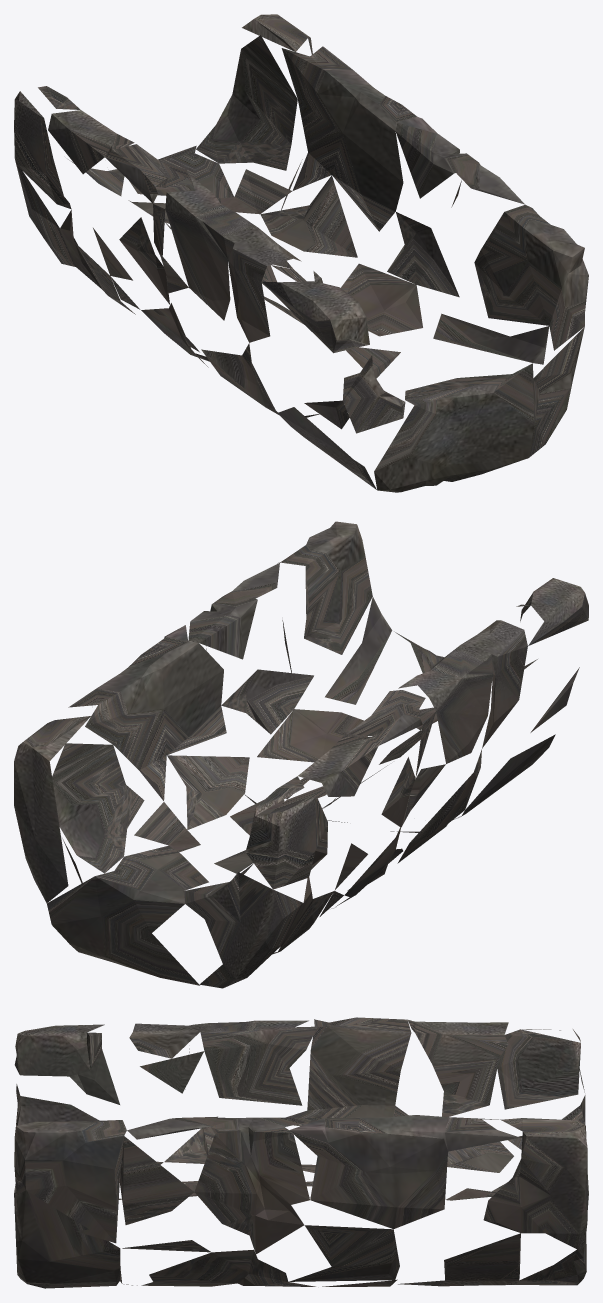
The model's file is prp_millrace_a_LOD1.glb.
The picture shows the model from 3 angles, top to bottom: view 1: azimuth 30°, elevation 25°; view 2: azimuth 150°, elevation 25°; view 3: azimuth 270°, elevation 25°; orthographic projection. The views are drawn at different scales.
Visible parts, largest first — view 1: geometry_0; view 2: geometry_0; view 3: geometry_0.
Boxes of the visible parts, x1,y1,x2,y2 form: geometry_0: [14, 14, 588, 492]; geometry_0: [14, 521, 588, 988]; geometry_0: [14, 1017, 588, 1288].
Bounding box in the file's own units: 1.96 × 1.44 × 4.
Materials: 1 (1 with a texture image).
